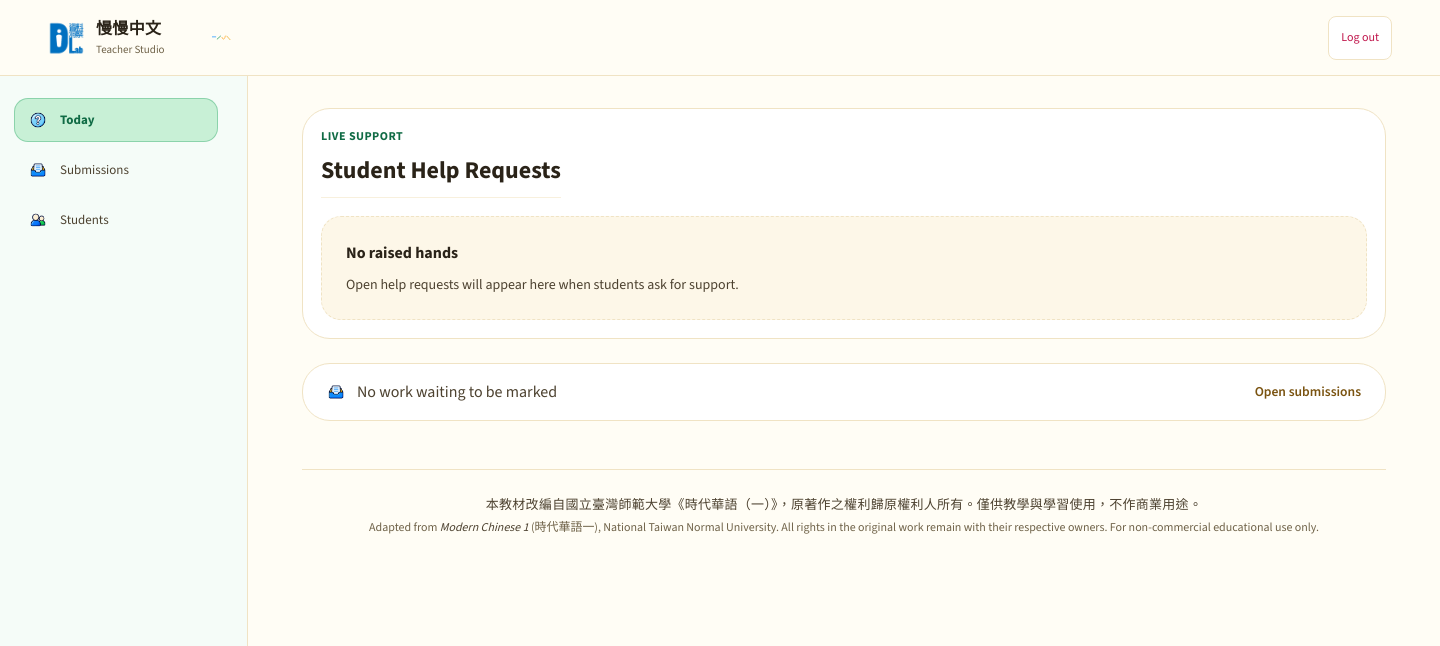
Test: Recording trends on the Submissions view › summarizes the class fluency and tone trend
Click the button "Submissions". click: (116, 170)
box: [14,148,218,192]
(page scrolled)
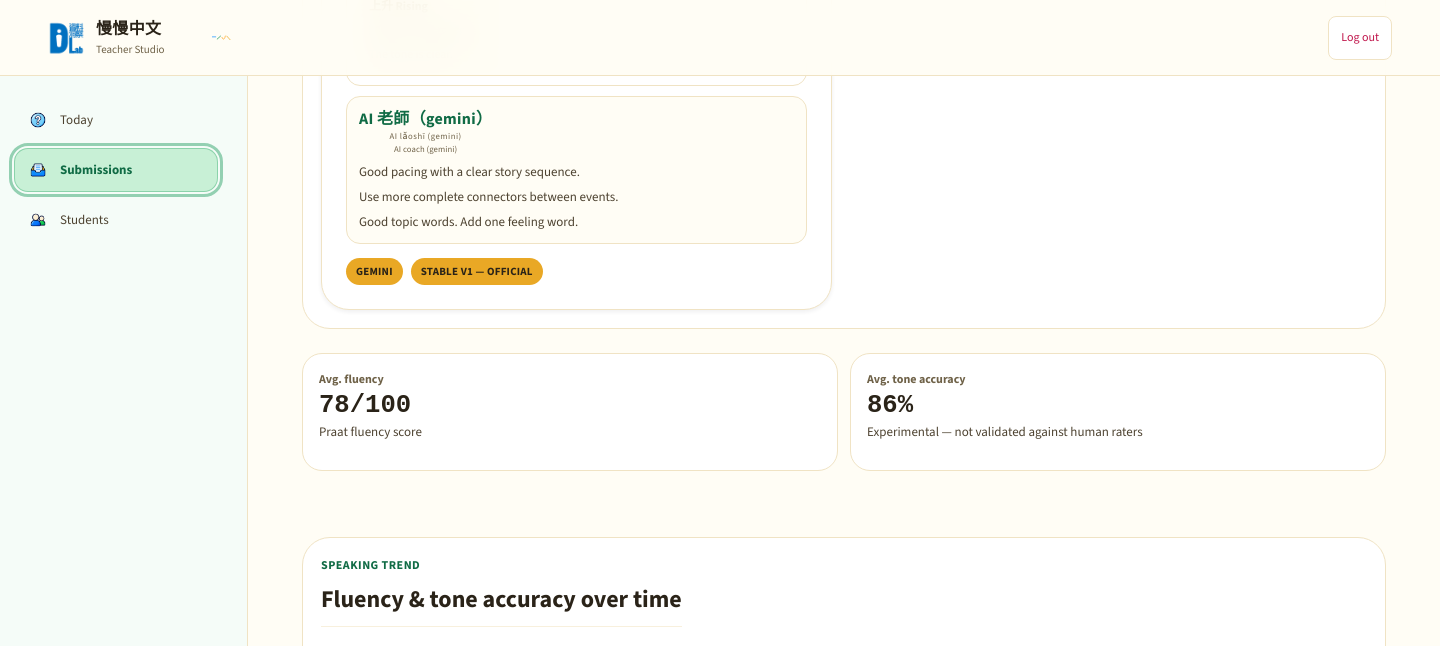
Check: the heading "Fluency & tone accuracy over time" is shown, box [321,581,682,627]
Check: the text "78/100" is shown, box [319,391,411,420]
Check: the text "86%" is shown, box [867,391,913,420]
